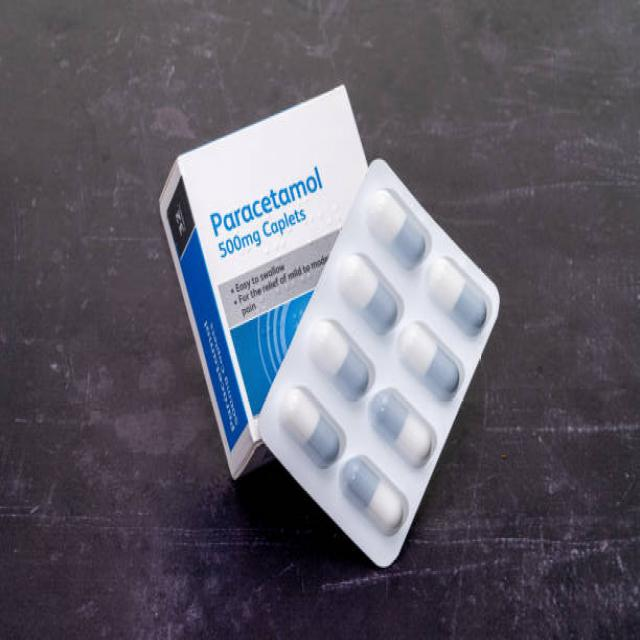Pill: (331, 432, 421, 562), (270, 362, 357, 491), (357, 369, 447, 486), (332, 232, 414, 358), (356, 167, 442, 281), (304, 297, 384, 419), (424, 238, 497, 358), (395, 307, 471, 421)
